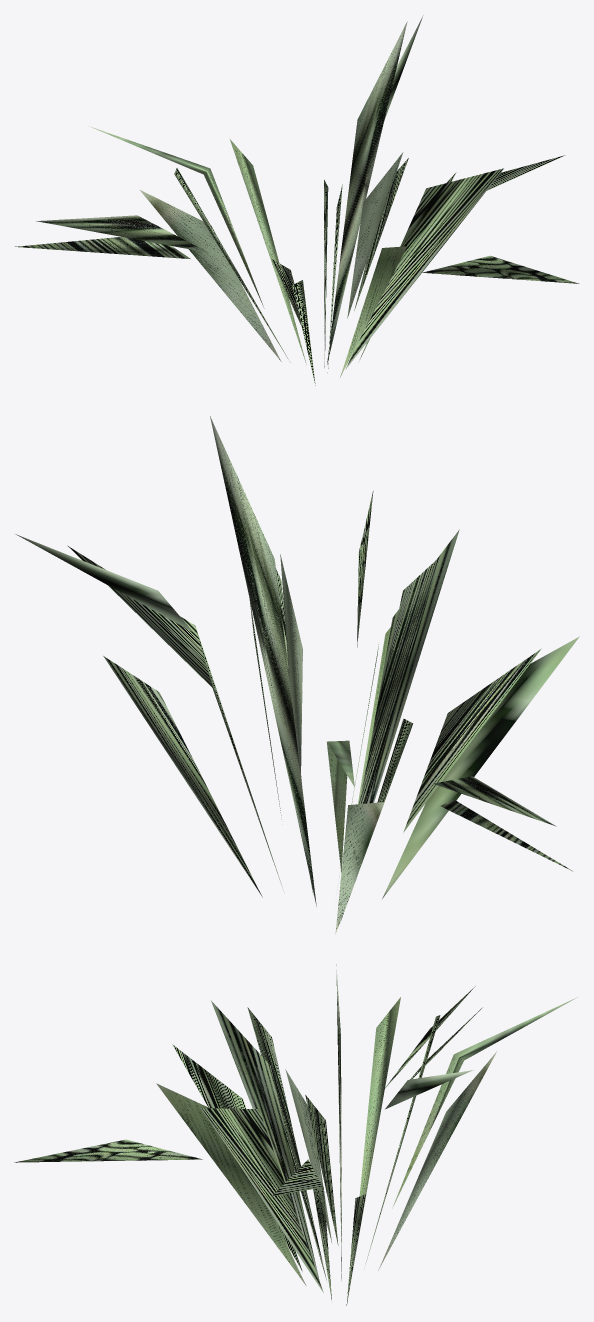
File: grass-clump.glb
3 views of the same model, one above another, from view 1: azimuth 30°, elevation 25°; view 2: azimuth 150°, elevation 25°; view 3: azimuth 270°, elevation 25° (orthographic). The views are drawn at different scales.
Parts seen in each view (by area): view 1: grass-clump_body; view 2: grass-clump_body; view 3: grass-clump_body.
Boxes of the visible parts, x1,y1,x2,y2 form: grass-clump_body: [15, 15, 579, 385]; grass-clump_body: [15, 416, 579, 934]; grass-clump_body: [14, 964, 577, 1305].
Size of the model in its own units: 0.5637 by 0.3882 by 0.5412.
1 material, 1 textured.
